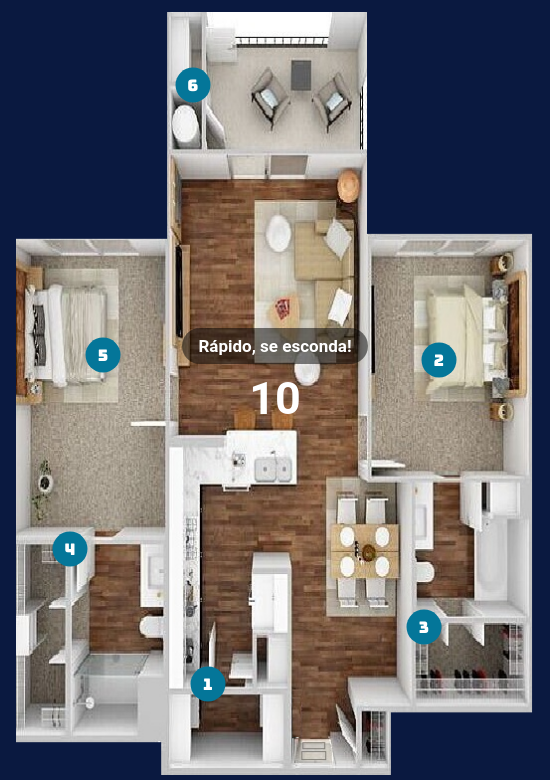
Test: HideScreen › renderiza mapa, seis locais e contador inicial do Android
Check: the text "Rápido, se esconda!" is shown, box [182,328,368,364]
Check: the text "10" is shown, box [249,372,301,424]
Click the button named "Esconderijo 1". click: (208, 684)
box: [190,666,226,702]
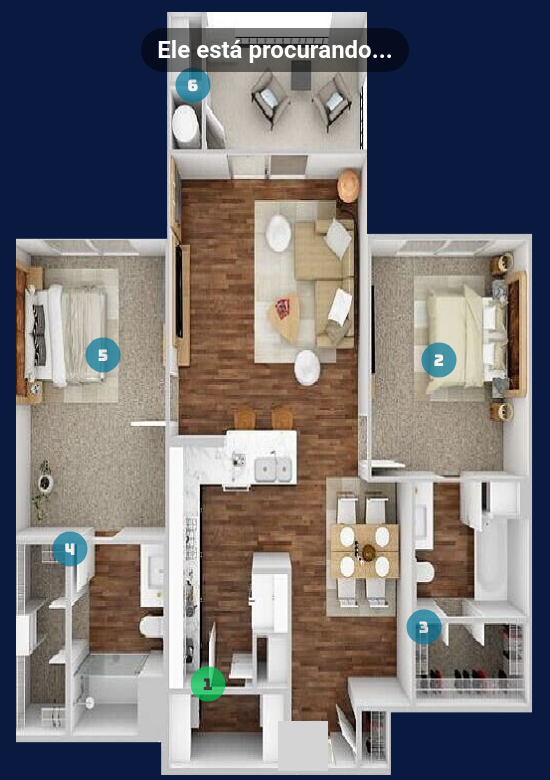
Check: the message reads "Ele está procurando...", box [157,36,393,64]
